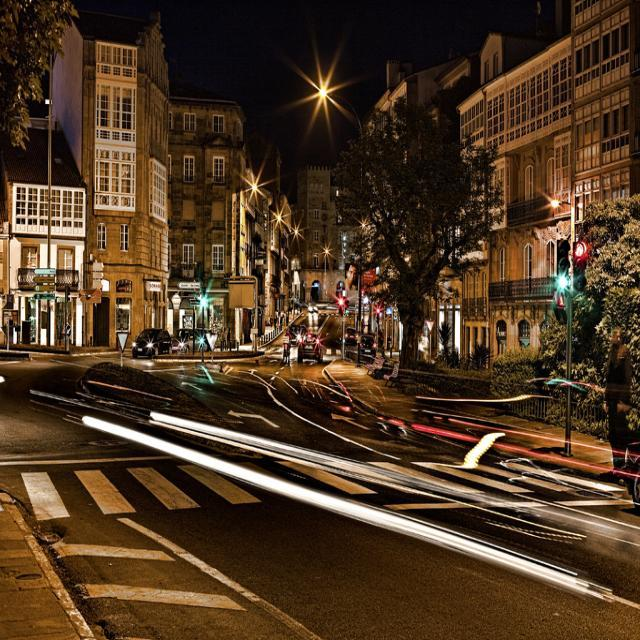traffic light: (557, 239, 571, 296), (573, 242, 586, 289)
